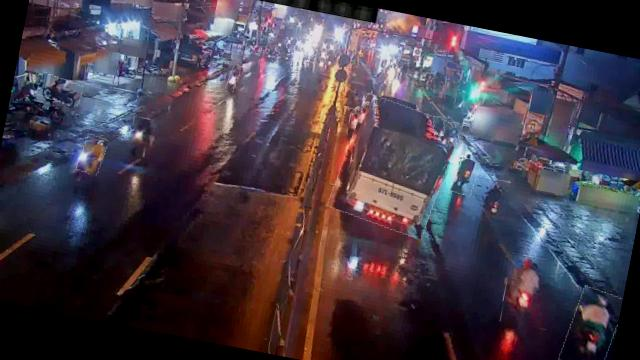Bike: (560, 285, 623, 360), (500, 253, 560, 331), (476, 176, 512, 226), (36, 74, 84, 106), (78, 133, 109, 175), (451, 156, 480, 196), (126, 116, 152, 157), (438, 132, 463, 164), (226, 64, 241, 93), (431, 114, 446, 136)
Truck: (329, 94, 459, 239)
